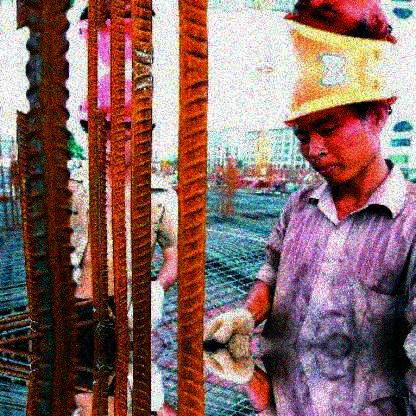helmet: (283, 70, 401, 185)
